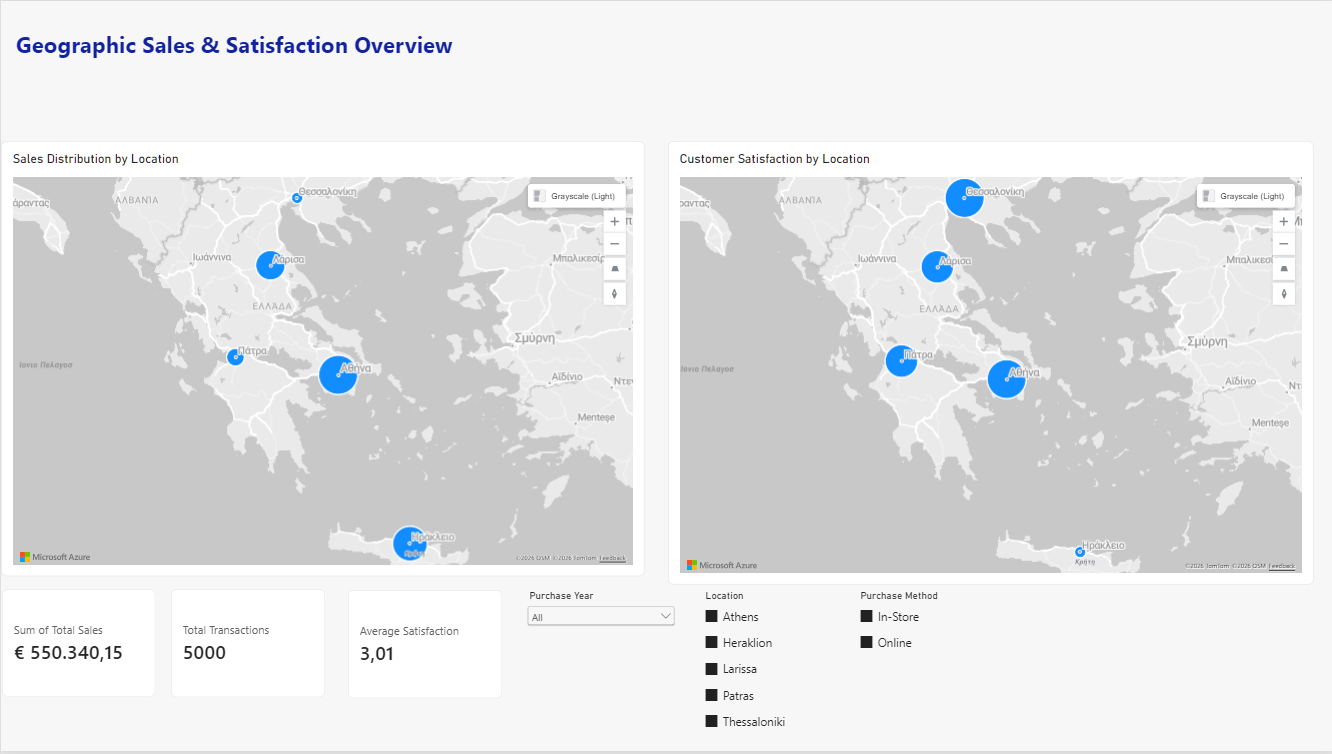

Layout of this report page (visuals, bound fields, positions):
{"tool":"powerbi","page":{"name":"Geographic and Satifaction","canvas":[1920,1080],"ordinal":0},"visuals":[{"type":"azureMap","title":"Sales Distribution by Location","fields":{"Category":["Table1.Location","Table1.Country"],"Size":["Sum(Table1.Amount Spent)"]},"box":[0,202,927.1,626.6],"z":0},{"type":"azureMap","title":"Customer Satisfaction by Location","fields":{"Category":["Table1.Location","Table1.Country"],"Size":["Avg(Table1.Customer Feedback Score)"]},"box":[960,202,930.3,639.5],"z":1000},{"type":"cardVisual","fields":{"Data":["Sum(Table1.Amount Spent)"]},"box":[1.6,846.3,221.7,155.8],"z":2000},{"type":"cardVisual","fields":{"Data":["CountNonNull(Table1.Transaction ID)"]},"box":[244.3,846.3,222,156],"z":3000},{"type":"cardVisual","fields":{"Data":["Avg(Table1.Customer Feedback Score)"]},"box":[500.3,848.8,222,156],"z":4000},{"type":"slicer","fields":{"Values":["Table1.Purchase Year"]},"box":[752.7,848.8,222,156],"z":5000},{"type":"slicer","fields":{"Values":["Table1.Location"]},"box":[1006.8,848.8,222.8,226.3],"z":6000},{"type":"slicer","fields":{"Values":["Table1.Purchase Method"]},"box":[1229.6,848.8,222,156],"z":7000},{"type":"textbox","box":[21.7,40,970,81.7],"z":8000}]}

Visuals, with their boxes in screenshot pixels (x1, y1, x2, y2), scaled from the page's 1920x1080 canvas onto the 1332x754 screenshot:
"Sales Distribution by Location" azureMap: rect(0, 141, 643, 578)
"Customer Satisfaction by Location" azureMap: rect(666, 141, 1311, 587)
cardVisual - Sum(Table1.Amount Spent): rect(1, 591, 155, 700)
cardVisual - CountNonNull(Table1.Transaction ID): rect(169, 591, 323, 700)
cardVisual - Avg(Table1.Customer Feedback Score): rect(347, 593, 501, 701)
slicer - Table1.Purchase Year: rect(522, 593, 676, 701)
slicer - Table1.Location: rect(698, 593, 853, 751)
slicer - Table1.Purchase Method: rect(853, 593, 1007, 701)
textbox: rect(15, 28, 688, 85)
